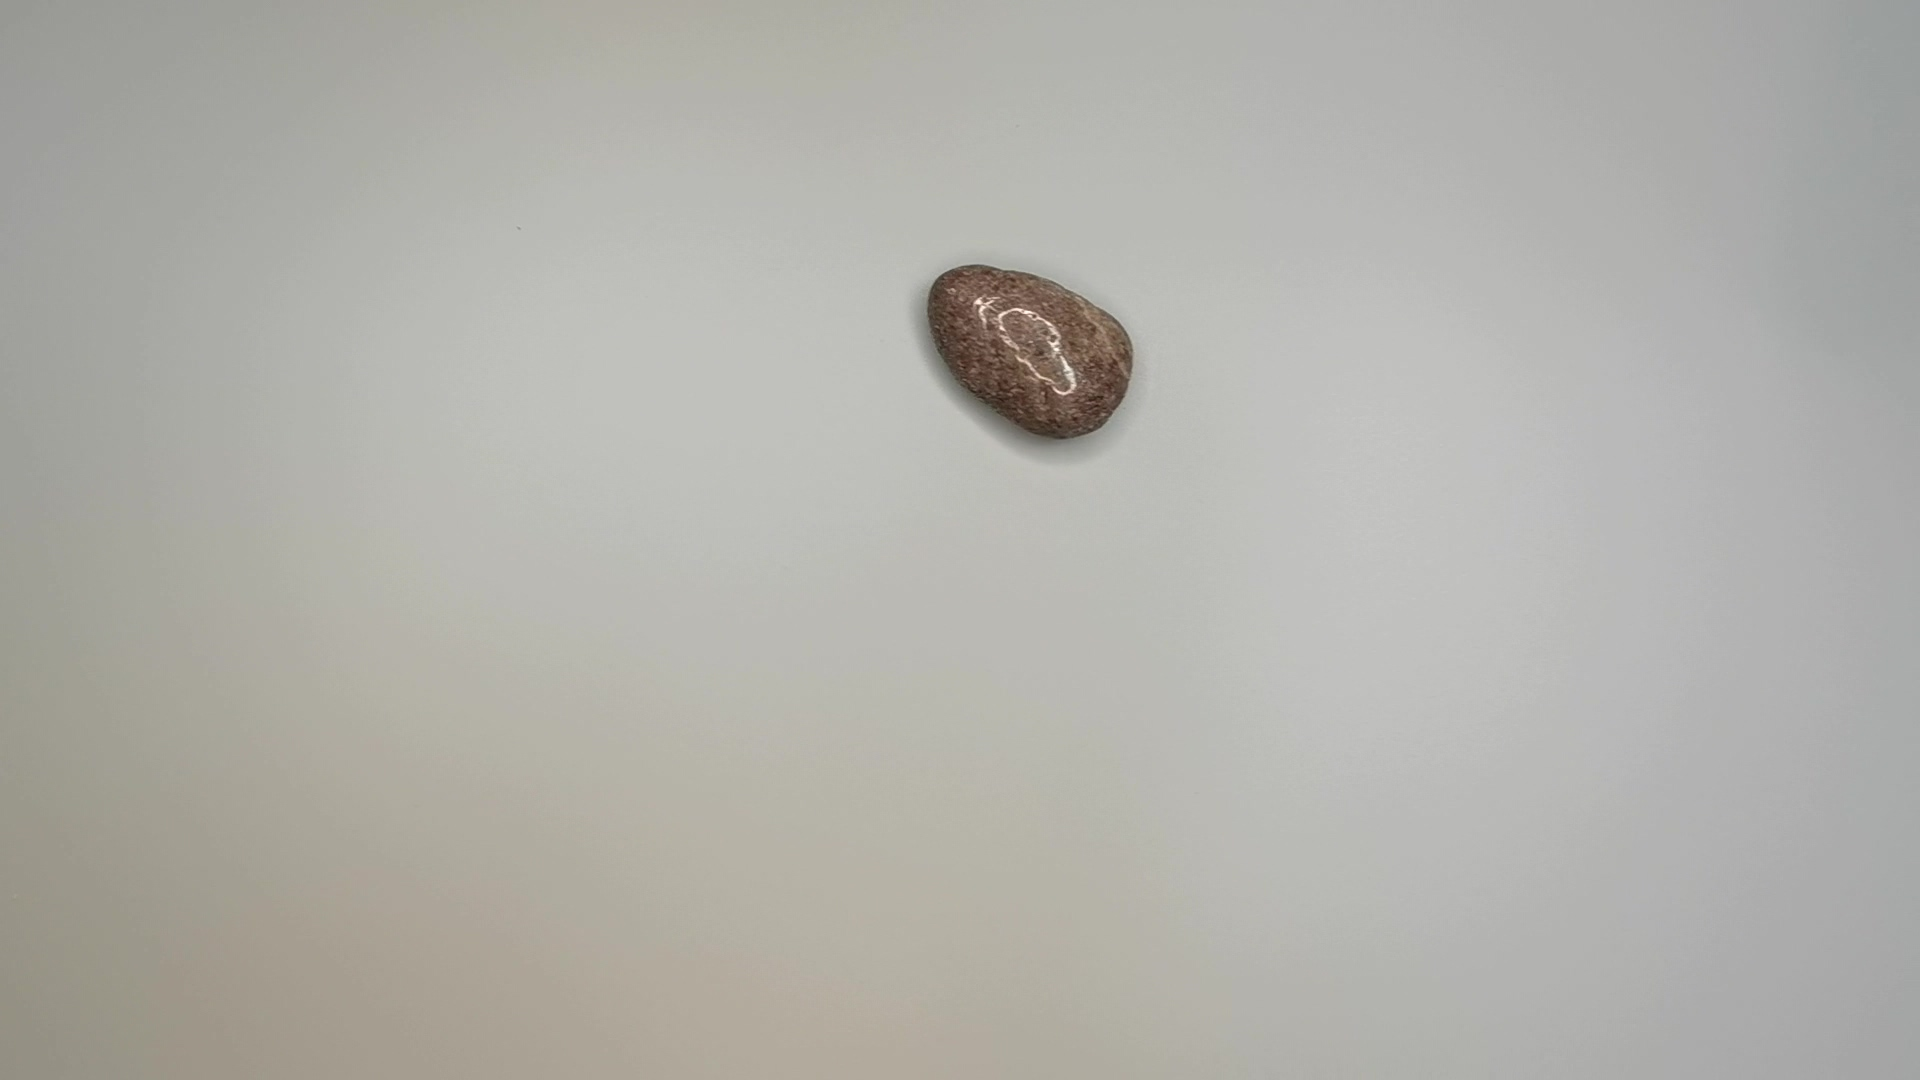ceramic: (920, 256, 1139, 444)
